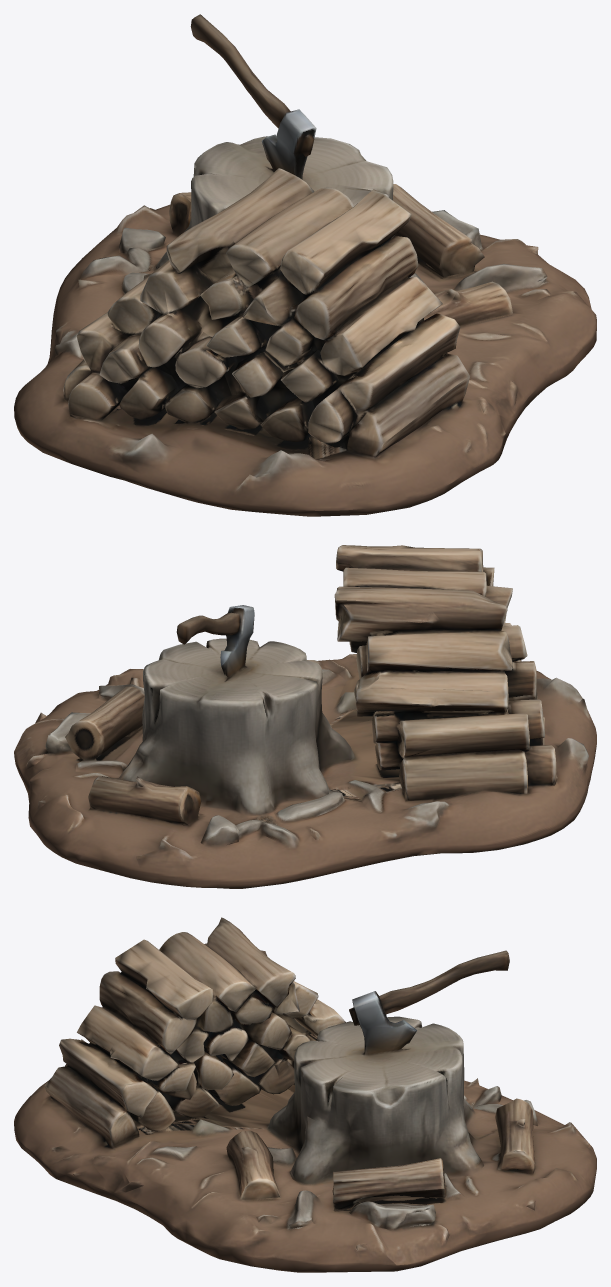
3 renders of one model, top to bottom at view 1: azimuth 30°, elevation 25°; view 2: azimuth 150°, elevation 25°; view 3: azimuth 270°, elevation 25°, orthographic. The views are drawn at different scales.
Visible parts, largest first — view 1: repaired; view 2: repaired; view 3: repaired.
Part boxes in pixels (box(x1,y1,x2,y2)): repaired: box(14, 14, 596, 516); repaired: box(14, 545, 596, 888); repaired: box(14, 917, 596, 1272).
Size of the model in its own units: 0.9373 by 0.4078 by 0.9992.
Materials: 1 (1 with a texture image).
